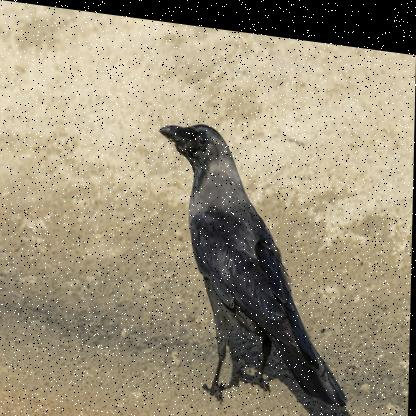Burung: (156, 113, 354, 409)
